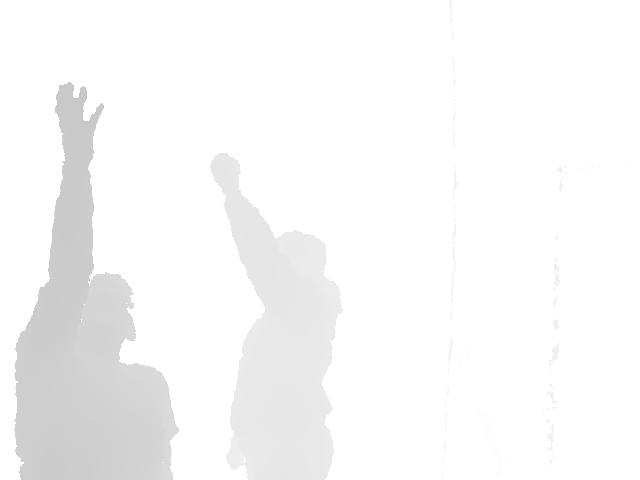hand: (54, 81, 104, 152), (210, 153, 241, 197)
head: (77, 272, 135, 364), (273, 229, 327, 293)
person: (13, 81, 181, 480), (210, 153, 343, 480)
